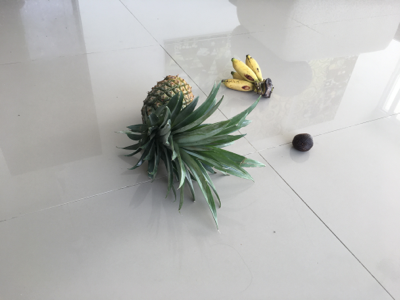banana: (221, 55, 276, 101)
pineapple: (115, 76, 260, 226)
snake fruit: (292, 132, 314, 153)
